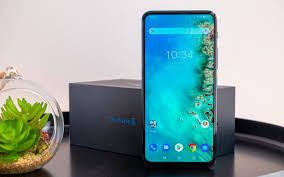asus: (137, 6, 218, 172)
